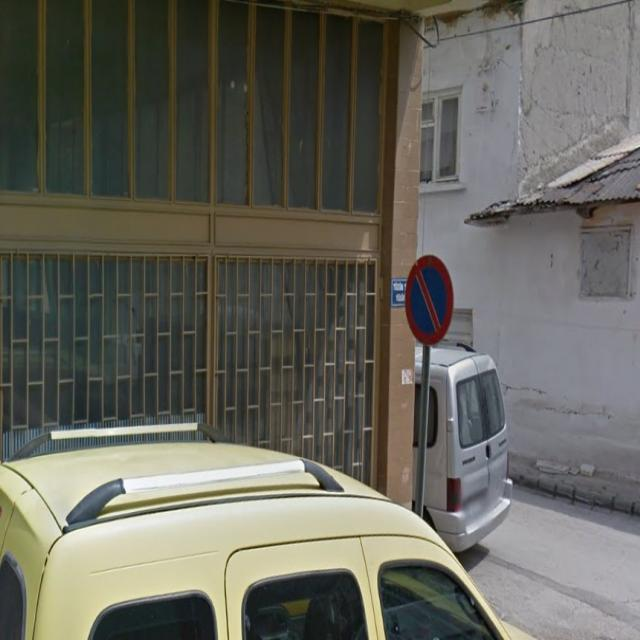parkyasak: (405, 254, 454, 346)
